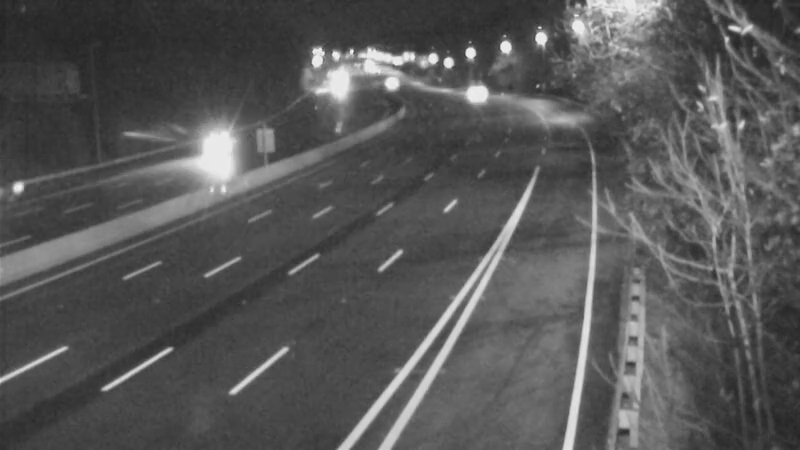vehicle: (361, 54, 411, 104), (451, 67, 501, 117), (192, 124, 242, 174)
